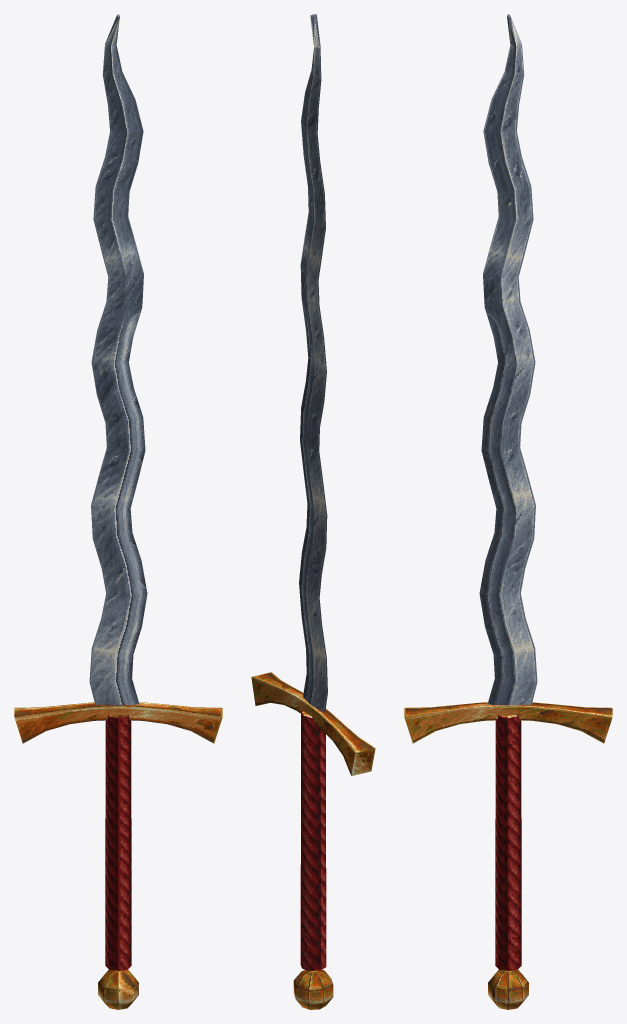
Rendered from flamberge.glb.
The picture shows the model from 3 angles, left to right: view 1: azimuth 90°, elevation 25°; view 2: azimuth 210°, elevation 25°; view 3: azimuth 270°, elevation 25°; orthographic projection.
Parts seen in each view (by area): view 1: flamberge; view 2: flamberge; view 3: flamberge.
Boxes of the visible parts, x1=… form: flamberge: x1=14, y1=14, x2=222, y2=1009; flamberge: x1=251, y1=14, x2=375, y2=1009; flamberge: x1=404, y1=14, x2=612, y2=1009.
Bounding box in the file's own units: 0.0495 × 1.32 × 0.2501.
1 material, 1 textured.
